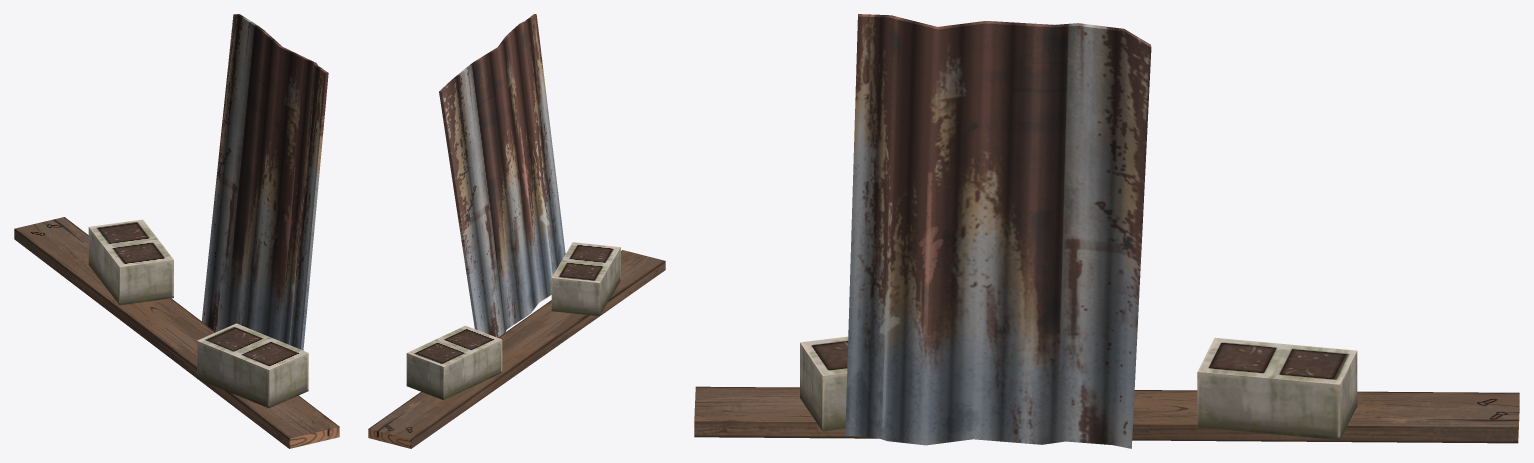
The model's file is raisedBed_dressing02.fbx.
The picture shows the model from 3 angles, left to right: view 1: azimuth 30°, elevation 25°; view 2: azimuth 150°, elevation 25°; view 3: azimuth 270°, elevation 25°; orthographic projection. The views are drawn at different scales.
Visible parts, largest first — view 1: raisedBed_dressing02; view 2: raisedBed_dressing02; view 3: raisedBed_dressing02.
Boxes of the visible parts, x1=… form: raisedBed_dressing02: x1=14, y1=14, x2=339, y2=448; raisedBed_dressing02: x1=368, y1=14, x2=665, y2=448; raisedBed_dressing02: x1=694, y1=14, x2=1519, y2=448.
Bounding box in the file's own units: 55.98 × 150 × 246.
